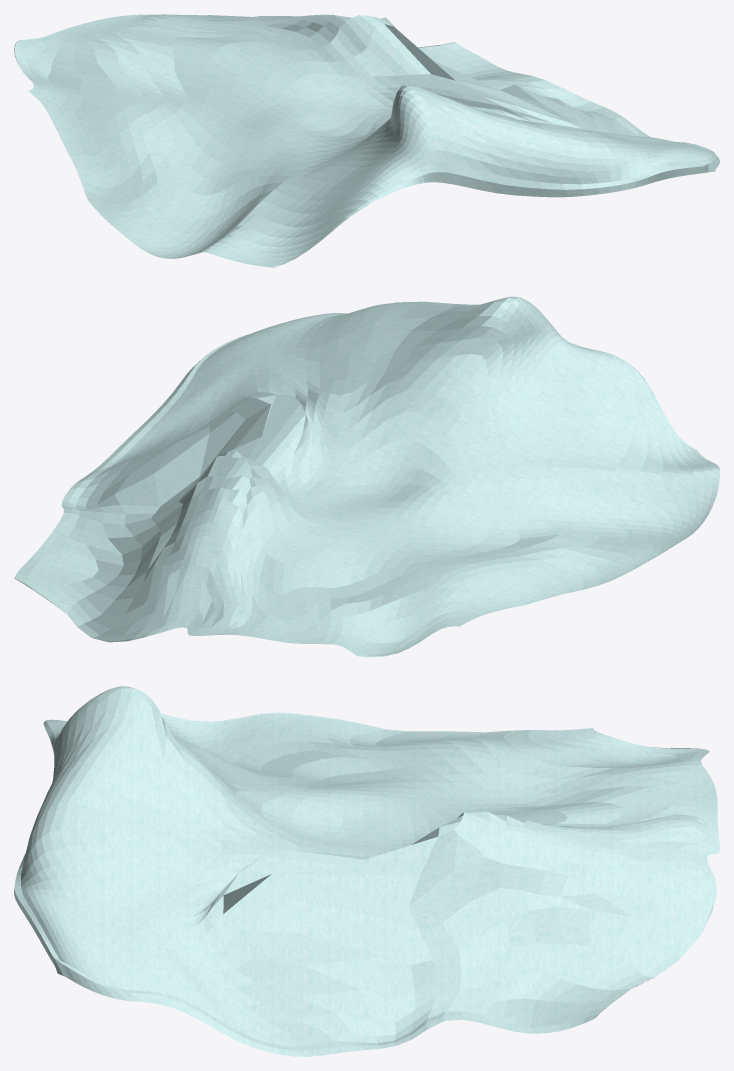
The model's file is terrain.glb.
The picture shows the model from 3 angles, top to bottom: view 1: azimuth 30°, elevation 25°; view 2: azimuth 150°, elevation 25°; view 3: azimuth 270°, elevation 25°; orthographic projection. The views are drawn at different scales.
Parts seen in each view (by area): view 1: Plane; view 2: Plane; view 3: Plane.
Part boxes in pixels (x1=…): Plane: x1=14, y1=14, x2=719, y2=267; Plane: x1=14, y1=296, x2=719, y2=657; Plane: x1=14, y1=686, x2=719, y2=1056.
Bounding box in the file's own units: 2176 × 698 × 2237.
Materials: 1 (1 with a texture image).
